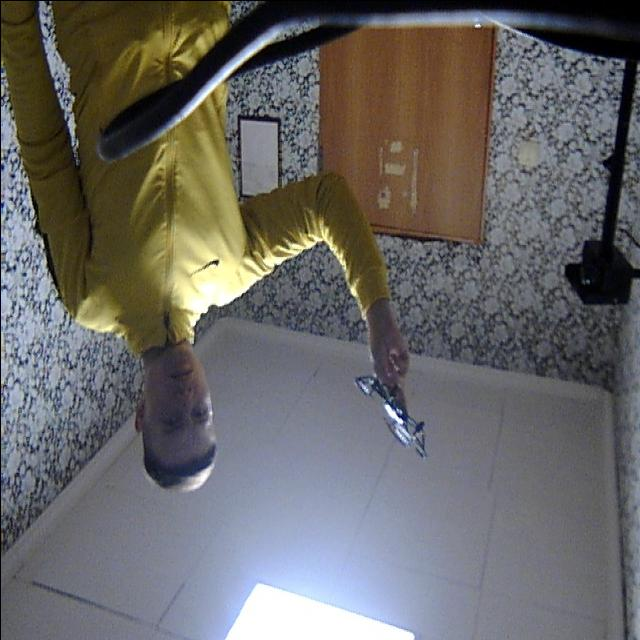drone: (338, 346, 442, 484)
